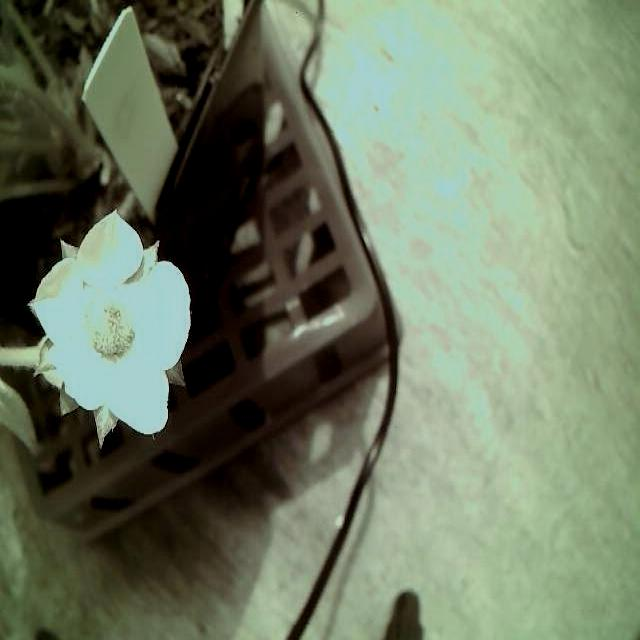flower: (22, 200, 204, 442)
